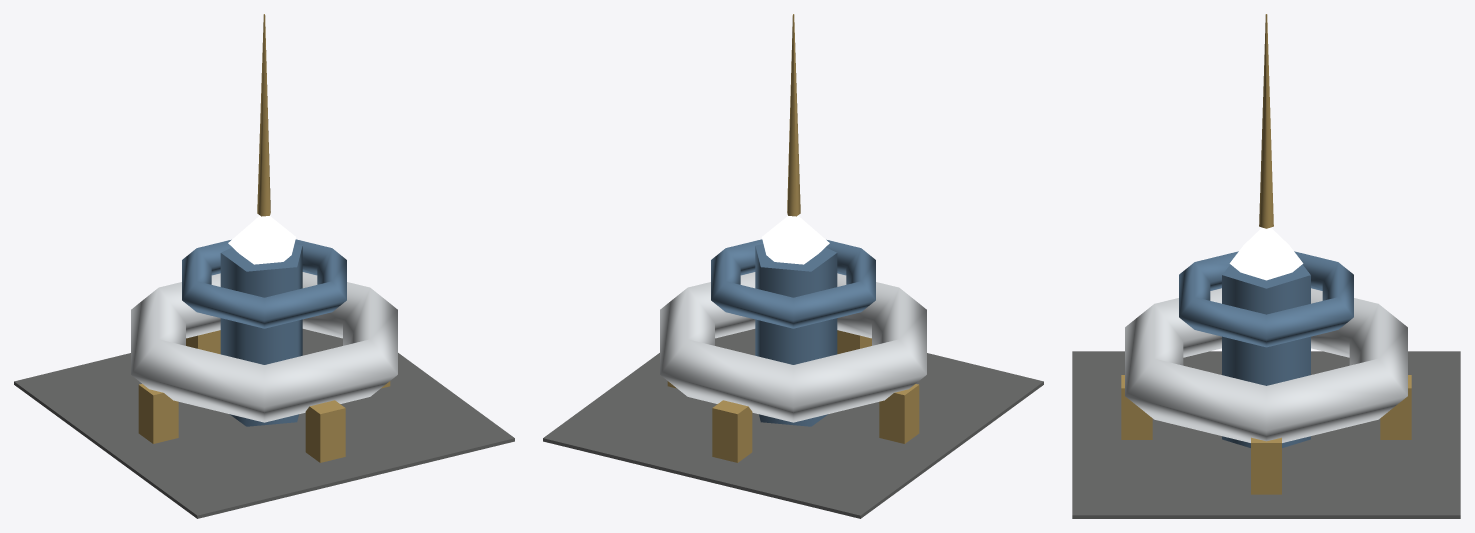
Rendered from bld_special_power_plant_a10_lod2.glb.
The picture shows the model from 3 angles, left to right: view 1: azimuth 30°, elevation 25°; view 2: azimuth 150°, elevation 25°; view 3: azimuth 270°, elevation 25°; orthographic projection. The views are drawn at different scales.
Parts seen in each view (by area): view 1: body; view 2: body; view 3: body.
Boxes of the visible parts, x1,y1,x2,y2 form: body: [14, 14, 514, 518]; body: [543, 14, 1043, 518]; body: [1072, 14, 1460, 518].
Size of the model in its own units: 15 by 18 by 15.
